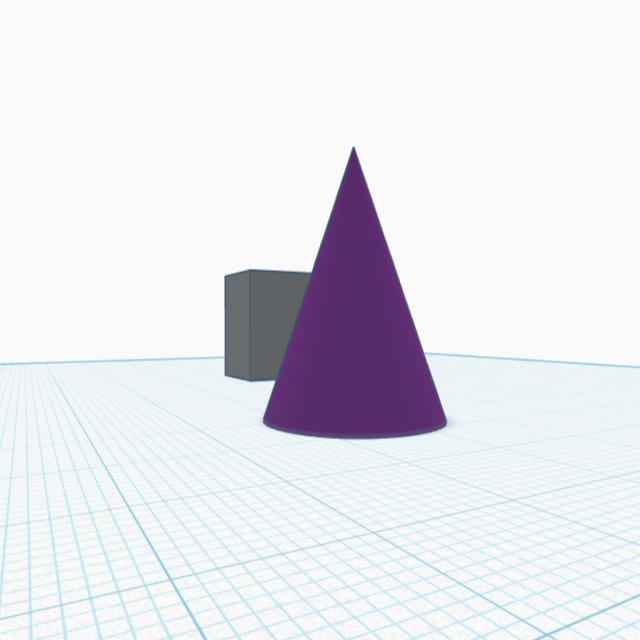cone: (258, 139, 449, 444)
